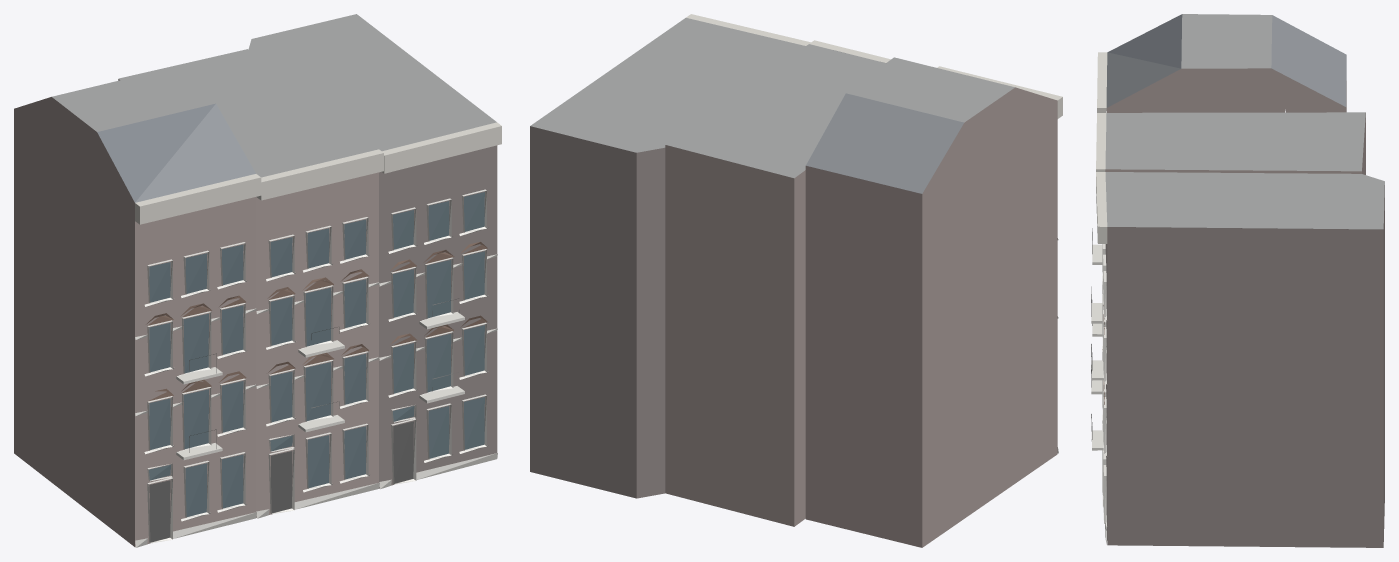
File: chunk-face-helmers-51-73-r1.lod2.glb
3 renders of one model, left to right at view 1: azimuth 30°, elevation 25°; view 2: azimuth 150°, elevation 25°; view 3: azimuth 270°, elevation 25°, orthographic. The views are drawn at different scales.
Visible parts, largest first — view 1: lod2; view 2: lod2; view 3: lod2.
Boxes of the visible parts, x1,y1,x2,y2 form: lod2: (14,14,501,547); lod2: (530,14,1062,547); lod2: (1091,14,1384,547).
Bounding box in the file's own units: 16.96 × 16.99 × 12.4.
